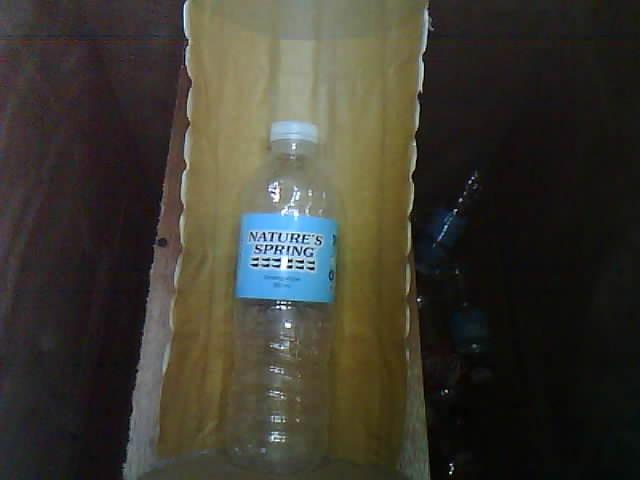small_bottle: (202, 101, 364, 477)
